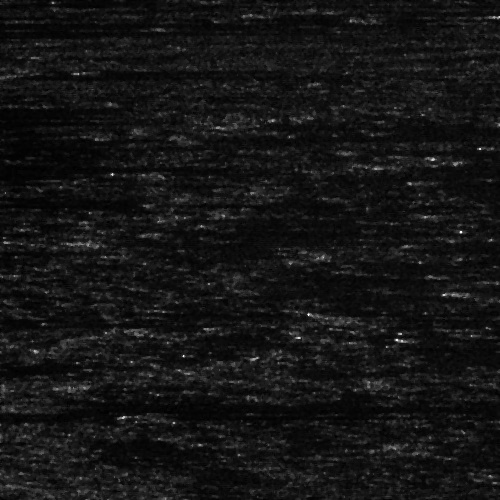object: (9, 232, 144, 249), (0, 69, 105, 80), (84, 411, 199, 420), (0, 397, 51, 412), (321, 16, 384, 21), (375, 335, 438, 340), (321, 146, 374, 151), (424, 288, 455, 295), (402, 178, 433, 183), (152, 228, 163, 235)
shadow: (0, 23, 500, 40), (0, 397, 487, 412), (0, 15, 320, 32), (0, 142, 137, 181), (77, 232, 272, 249), (22, 69, 275, 80), (142, 411, 405, 420), (0, 94, 88, 115), (0, 241, 93, 260), (0, 414, 247, 421), (0, 360, 114, 367), (348, 146, 486, 151), (0, 219, 117, 224), (158, 228, 224, 235), (0, 198, 65, 205), (439, 288, 500, 295), (407, 335, 479, 340), (0, 224, 32, 235), (418, 178, 488, 183), (353, 16, 422, 21), (0, 118, 53, 123)
